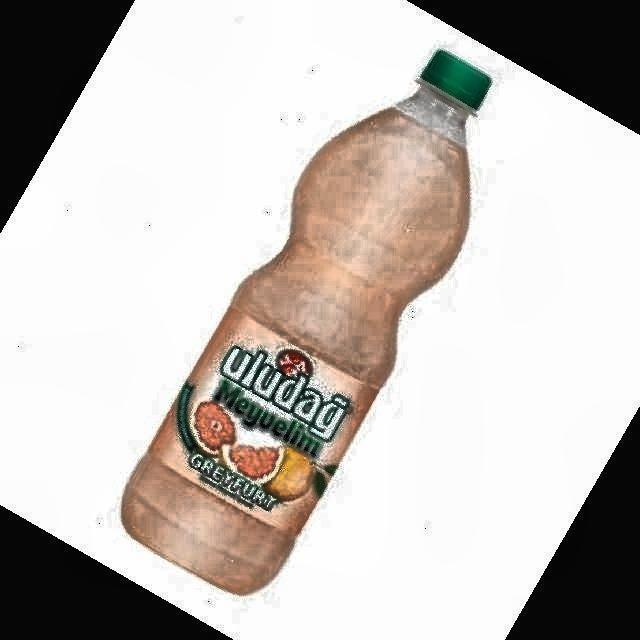plastic: (122, 51, 490, 593)
